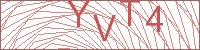4: (144, 5, 165, 34)
T: (118, 1, 141, 28)
V: (92, 13, 117, 42)
Y: (66, 1, 91, 28)
